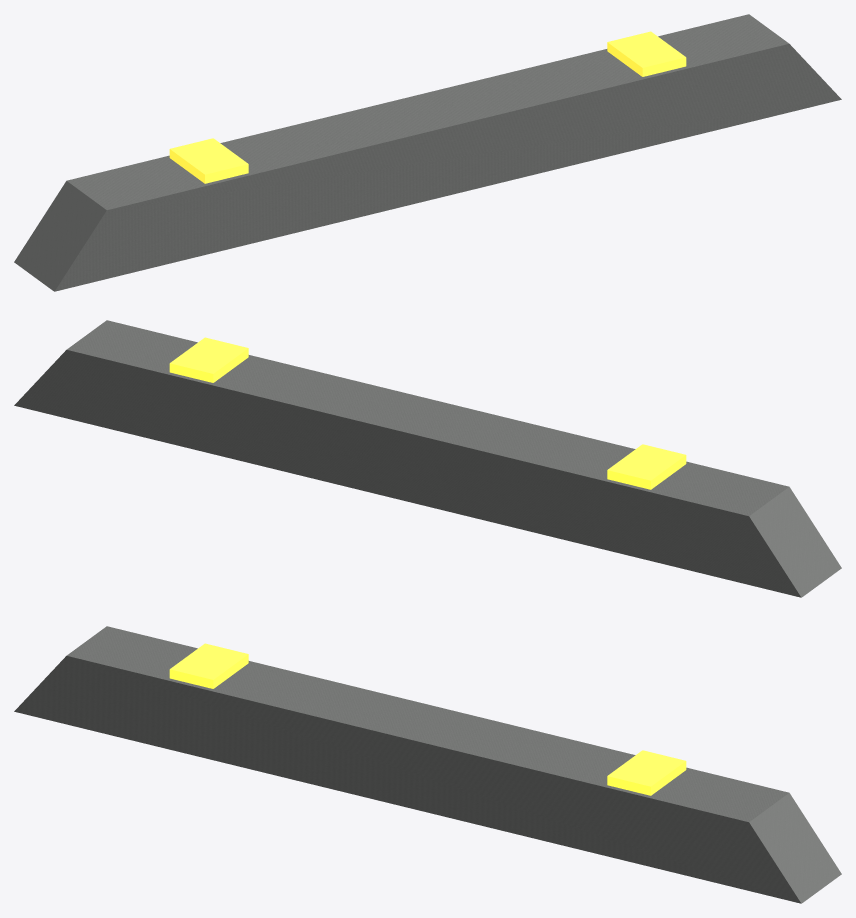
The model's file is car-park-and-road-vehicle-fleet-wheel-stop-95ba24b9__32558.glb.
3 views of the same model, one above another, from view 1: azimuth 30°, elevation 25°; view 2: azimuth 150°, elevation 25°; view 3: azimuth 330°, elevation 25° (orthographic).
Parts seen in each view (by area): view 1: wheel-stop; view 2: wheel-stop; view 3: wheel-stop.
Part boxes in pixels (x1,y1,x2,y2): wheel-stop: (14,14,841,291); wheel-stop: (14,320,841,597); wheel-stop: (14,626,841,903).
Size of the model in its own units: 1.8 by 0.17 by 0.16.
Materials: 2 (1 with a texture image).
